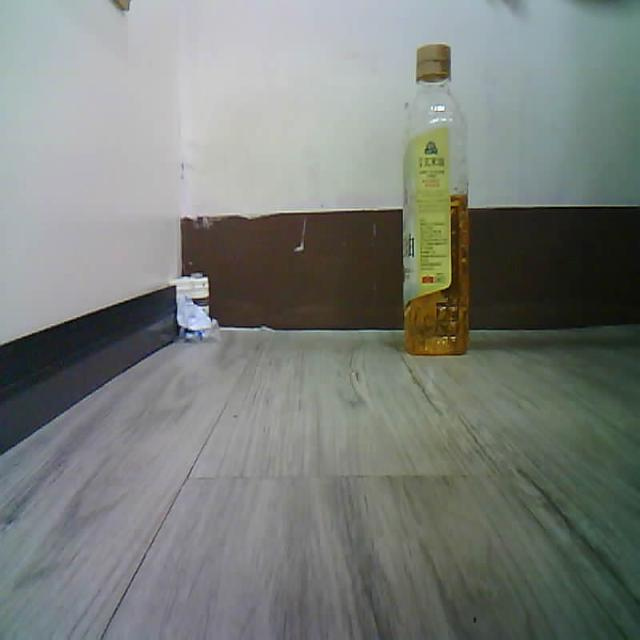bottle: (403, 44, 469, 354)
